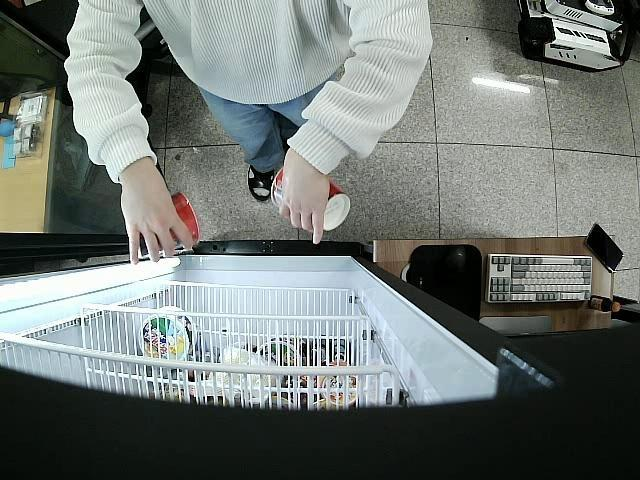02_shinRamen_S: (270, 165, 350, 232), (133, 192, 200, 262)
